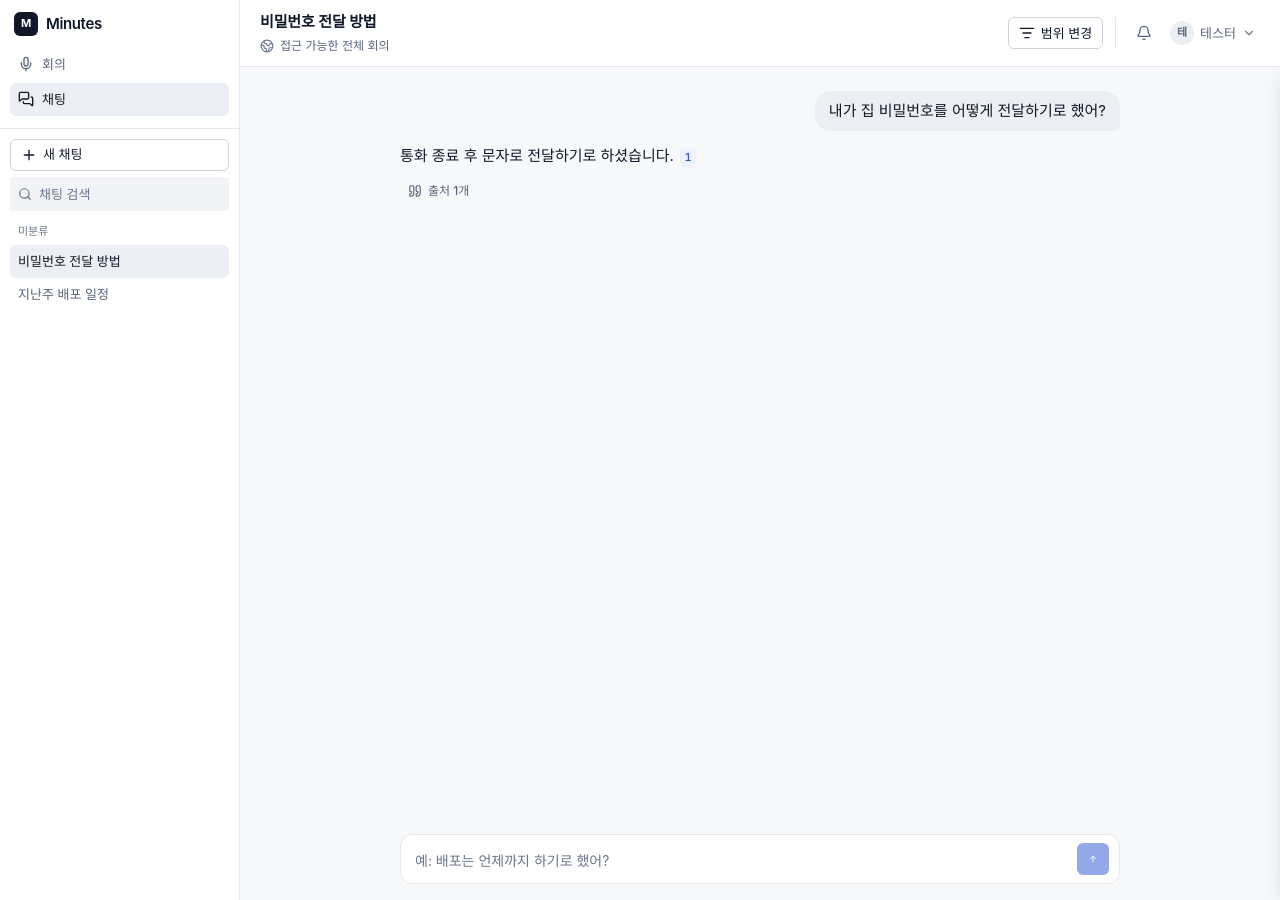
채팅 › 새로 열어도 서버에 저장된 대화와 근거가 그대로 복원된다
Expected: the text "내가 집 비밀번호를 어떻게 전달하기로 했어?" is shown, top-left (815, 91), bottom-right (1120, 131)
Expected: the text "통화 종료 후 문자로 전달하기로 하셨습니다." is shown, top-left (400, 146), bottom-right (678, 165)
Click the button "출처 1개".
click(439, 191)  # box top-left (400, 179), bottom-right (477, 203)
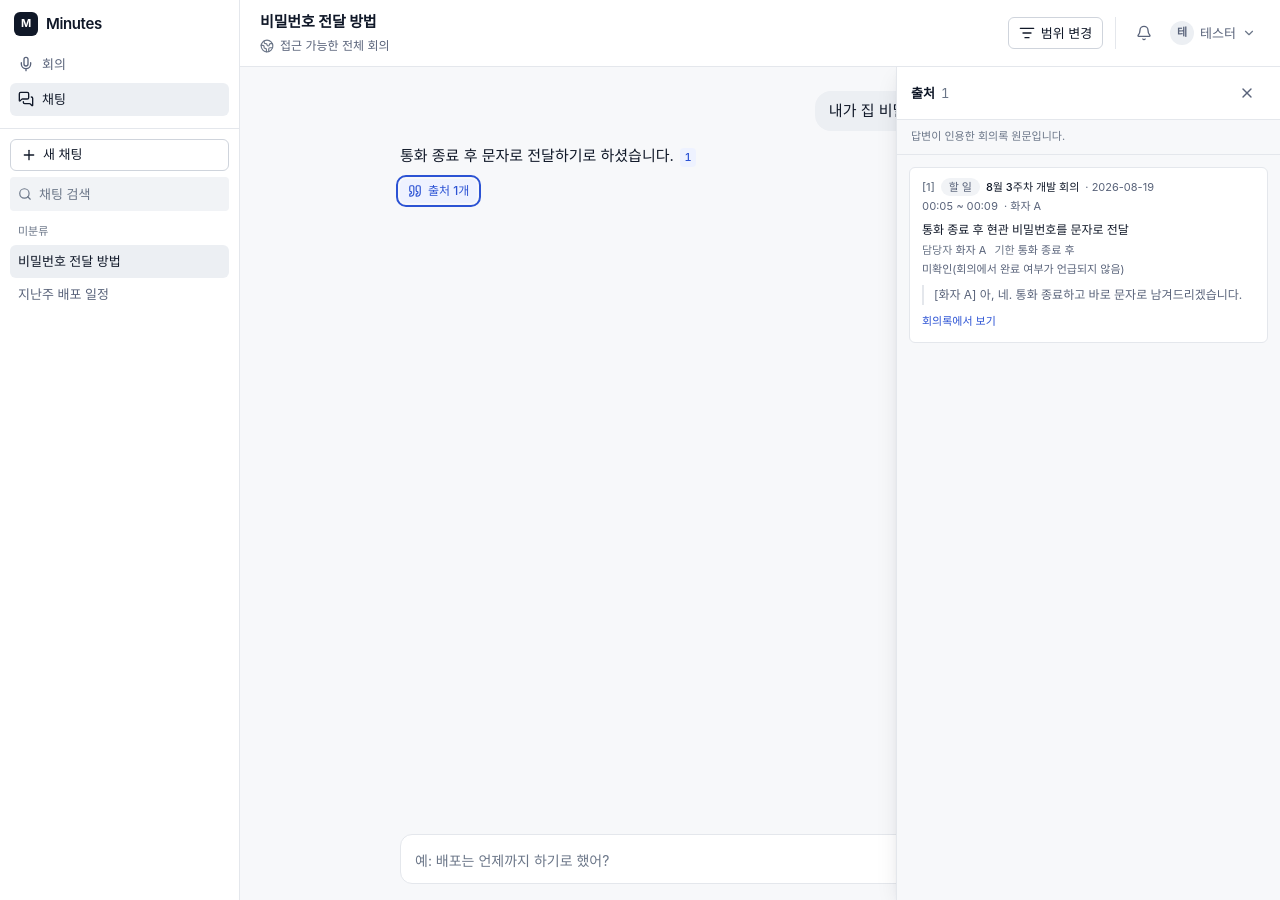
Now the text "[화자 A] 아, 네. 통화 종료하고 바로 문자로 남겨드리겠습니다." is shown, box top-left (922, 285), bottom-right (1255, 304)
Now the text "할 일" is shown, box top-left (941, 178), bottom-right (980, 196)
